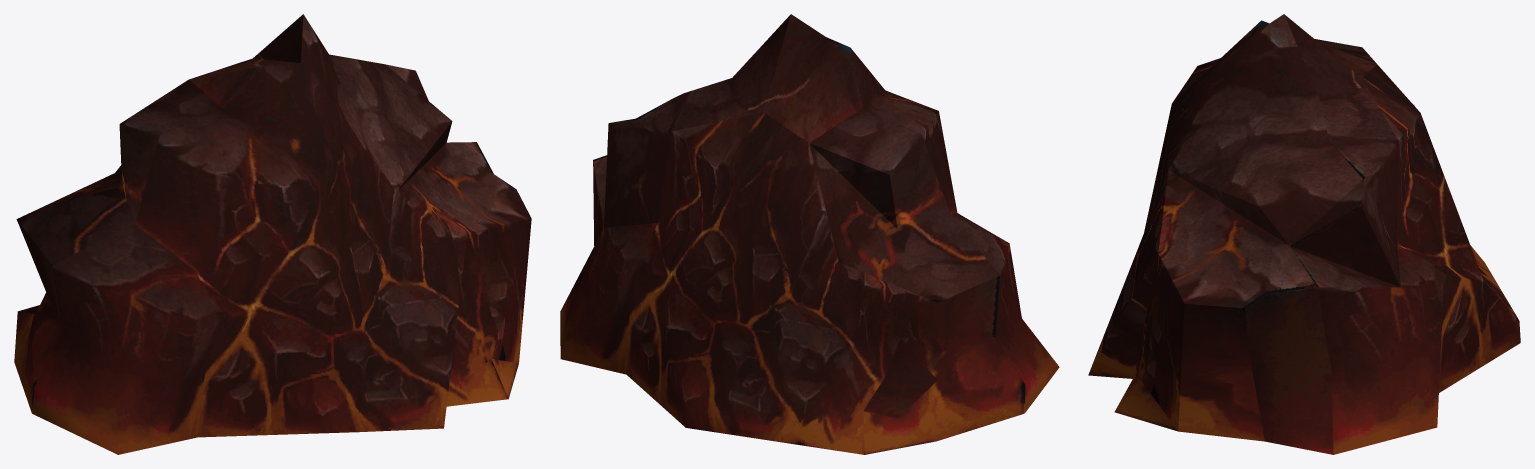
File: hs_shan_18.FBX
The picture shows the model from 3 angles, left to right: view 1: azimuth 30°, elevation 25°; view 2: azimuth 150°, elevation 25°; view 3: azimuth 270°, elevation 25°; orthographic projection. The views are drawn at different scales.
Visible parts, largest first — view 1: hs_shan_18; view 2: hs_shan_18; view 3: hs_shan_18.
Boxes of the visible parts, x1=… form: hs_shan_18: x1=14, y1=14, x2=531, y2=454; hs_shan_18: x1=560, y1=14, x2=1059, y2=454; hs_shan_18: x1=1088, y1=14, x2=1520, y2=454.
Size of the model in its own units: 8.48 by 5.99 by 6.86.
